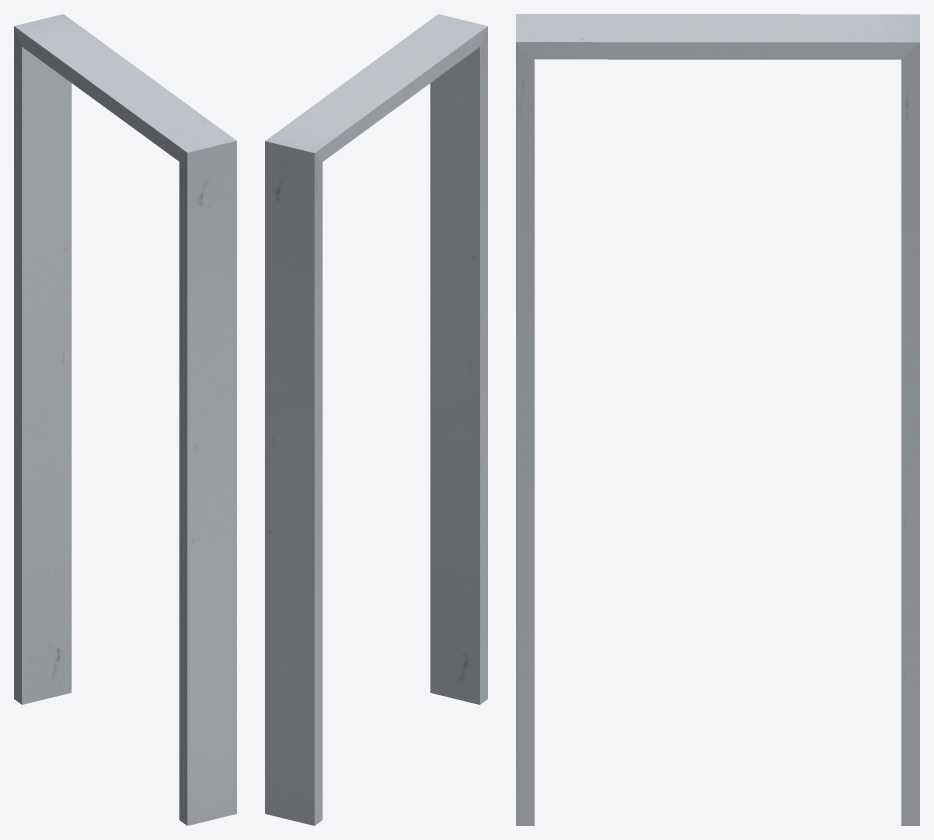
Rendered from MarcoPuerta.fbx.
3 views of the same model, side by side, from view 1: azimuth 30°, elevation 25°; view 2: azimuth 150°, elevation 25°; view 3: azimuth 270°, elevation 25° (orthographic). The views are drawn at different scales.
Parts seen in each view (by area): view 1: MarcoPuerta; view 2: MarcoPuerta; view 3: MarcoPuerta.
Part boxes in pixels (x1,y1,x2,y2): MarcoPuerta: (14, 14, 236, 825); MarcoPuerta: (265, 14, 487, 825); MarcoPuerta: (516, 14, 919, 825).
Bounding box in the file's own units: 16.48 × 214 × 100.
Materials: 1 (1 with a texture image).
